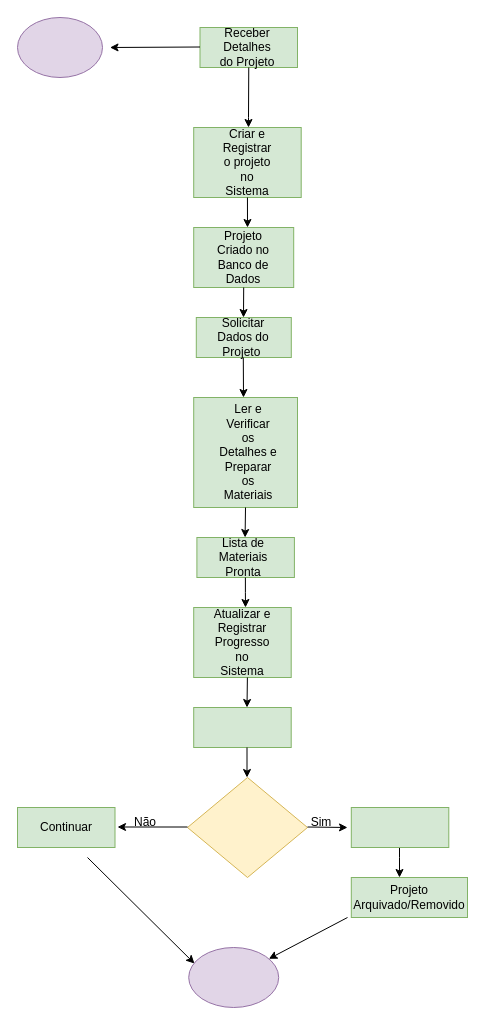
This 485x1025 diagram has some shape labels left out. Each missing label, with the centre of its shape:
FIm: the point at 233,977
inicio: the point at 59,47
Projeto Concluído ou Cancelado?: the point at 247,827
Remover/Arquivar o Projeto: the point at 399,827
Sistema Atualizado: the point at 242,727
